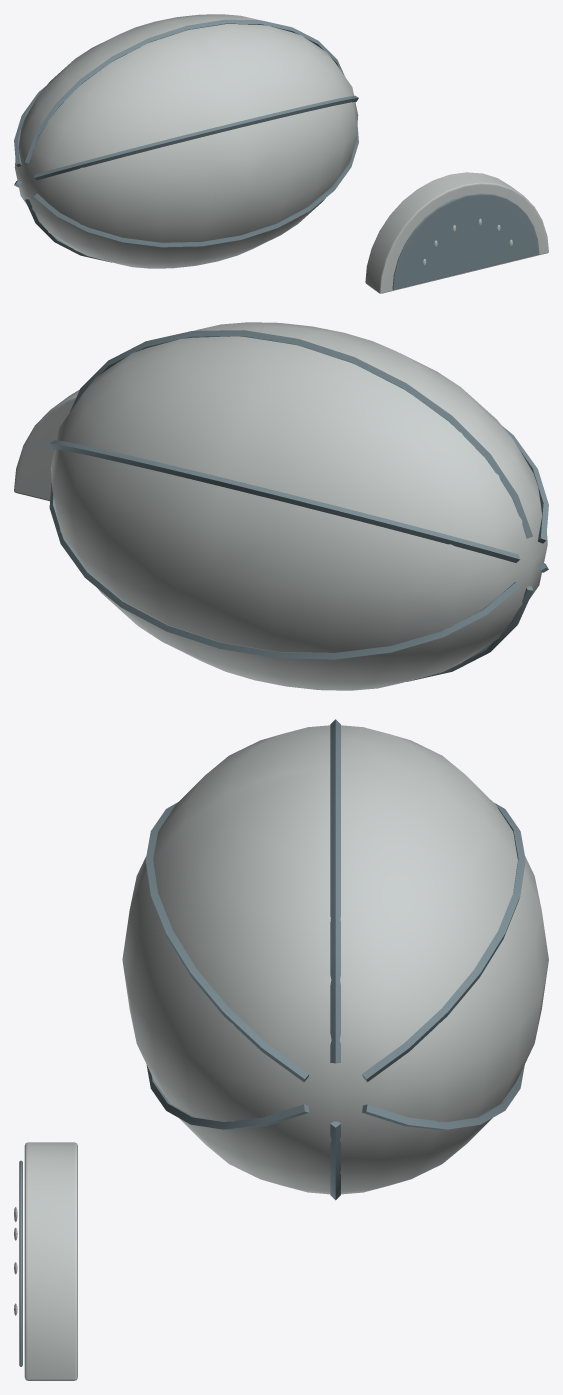
The model's file is watermelon.glb.
3 renders of one model, top to bottom at view 1: azimuth 30°, elevation 25°; view 2: azimuth 150°, elevation 25°; view 3: azimuth 270°, elevation 25°, orthographic. The views are drawn at different scales.
Visible parts, largest first — view 1: whole_melon, cut_melon_flesh, cut_melon_rind, rind_stripe.001, rind_stripe.002, rind_stripe, rind_stripe.003, rind_stripe.005; view 2: whole_melon, rind_stripe.005, rind_stripe.004, rind_stripe, cut_melon_rind, rind_stripe.003, rind_stripe.001; view 3: whole_melon, cut_melon_rind, rind_stripe, rind_stripe.001, rind_stripe.005, rind_stripe.004, rind_stripe.002, rind_stripe.003, cut_melon_flesh.
Boxes of the visible parts, box(x1,y1,x2,y2) form: whole_melon: box(14, 14, 358, 268); cut_melon_flesh: box(392, 193, 539, 289); cut_melon_rind: box(365, 172, 548, 293); rind_stripe.001: box(34, 95, 358, 180); rind_stripe.002: box(34, 125, 358, 247); rind_stripe: box(25, 19, 344, 163); rind_stripe.003: box(25, 196, 111, 262); rind_stripe.005: box(14, 86, 45, 166); whole_melon: box(50, 322, 547, 690); rind_stripe.005: box(50, 440, 520, 562); rind_stripe.004: box(49, 483, 519, 659); rind_stripe: box(70, 330, 532, 538); cut_melon_rind: box(14, 389, 79, 501); rind_stripe.003: box(406, 586, 533, 681); rind_stripe.001: box(502, 426, 548, 543); whole_melon: box(122, 725, 548, 1194); cut_melon_rind: box(24, 1142, 77, 1380); rind_stripe: box(330, 719, 340, 1063); rind_stripe.001: box(145, 802, 309, 1081); rind_stripe.005: box(362, 803, 525, 1081); rind_stripe.004: box(362, 1064, 524, 1130); rind_stripe.002: box(146, 1065, 309, 1130); rind_stripe.003: box(330, 1121, 340, 1200); cut_melon_flesh: box(19, 1160, 22, 1366).
Bounding box in the file's own units: 0.4854 × 0.247 × 0.301.
